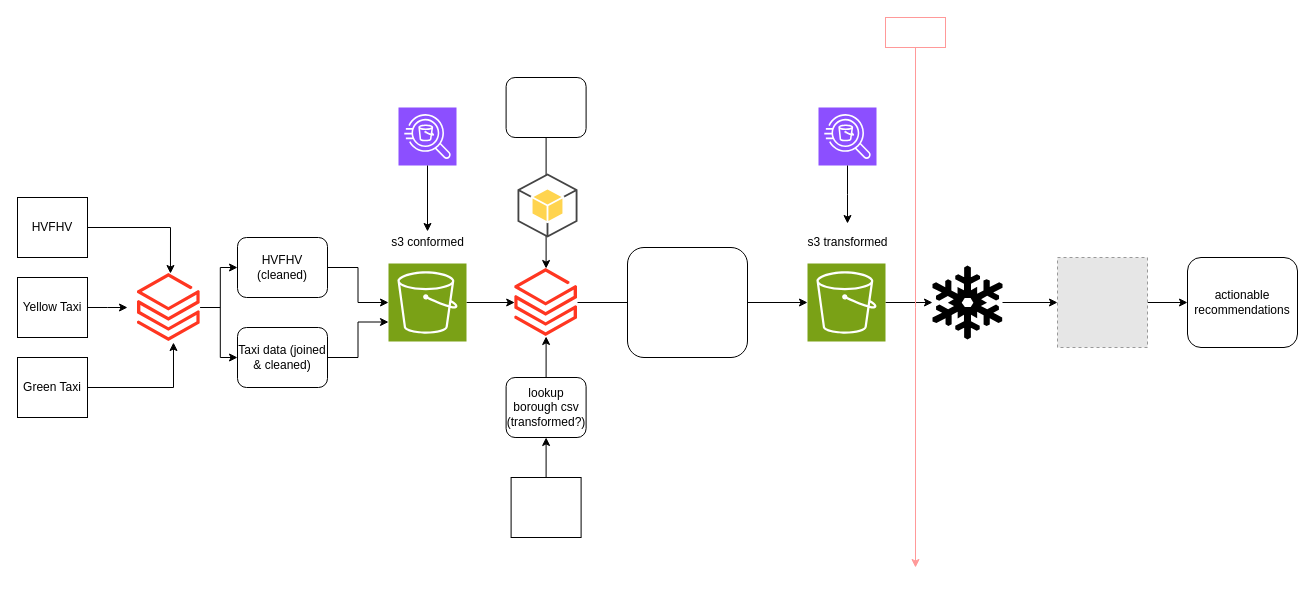
The diagram is 1315 pixels wide and 593 high, and some of its shapes have lost their labels. Grey dashed boxes stand in for pictures. The shapes that lost their labels are listed below. From the top down, each one's box as (x1, y1, x2, y2) in pixels, then its label:
(884, 16, 946, 48): Friday
(505, 76, 586, 138): potentially AWS AI tools
(626, 246, 748, 358): use case: traffic congestion patterns tourism analytics by borough
(510, 476, 581, 538): lookup borough csv
